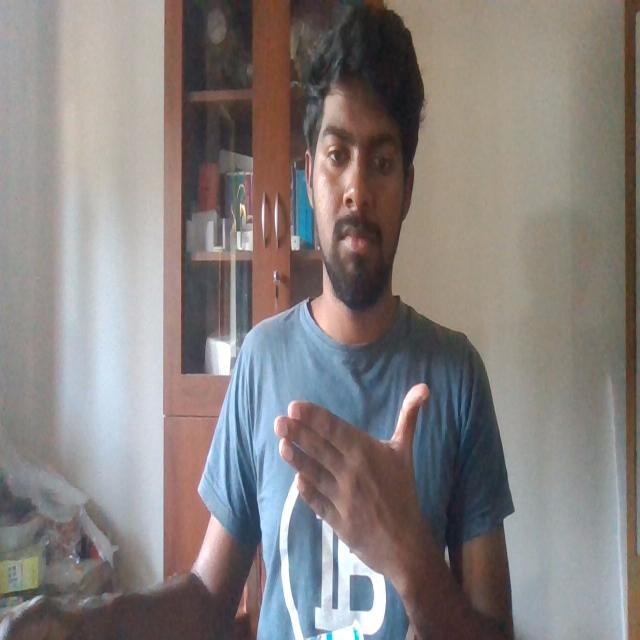Please: (273, 371, 438, 571)
